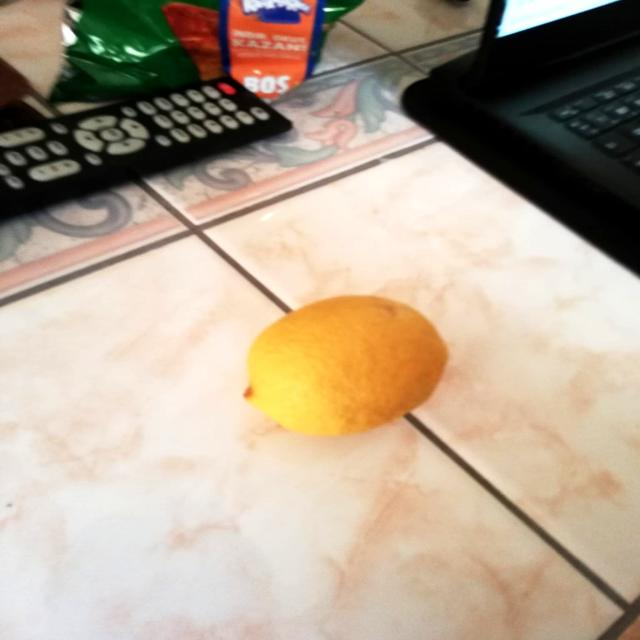lemon: (239, 286, 457, 444)
